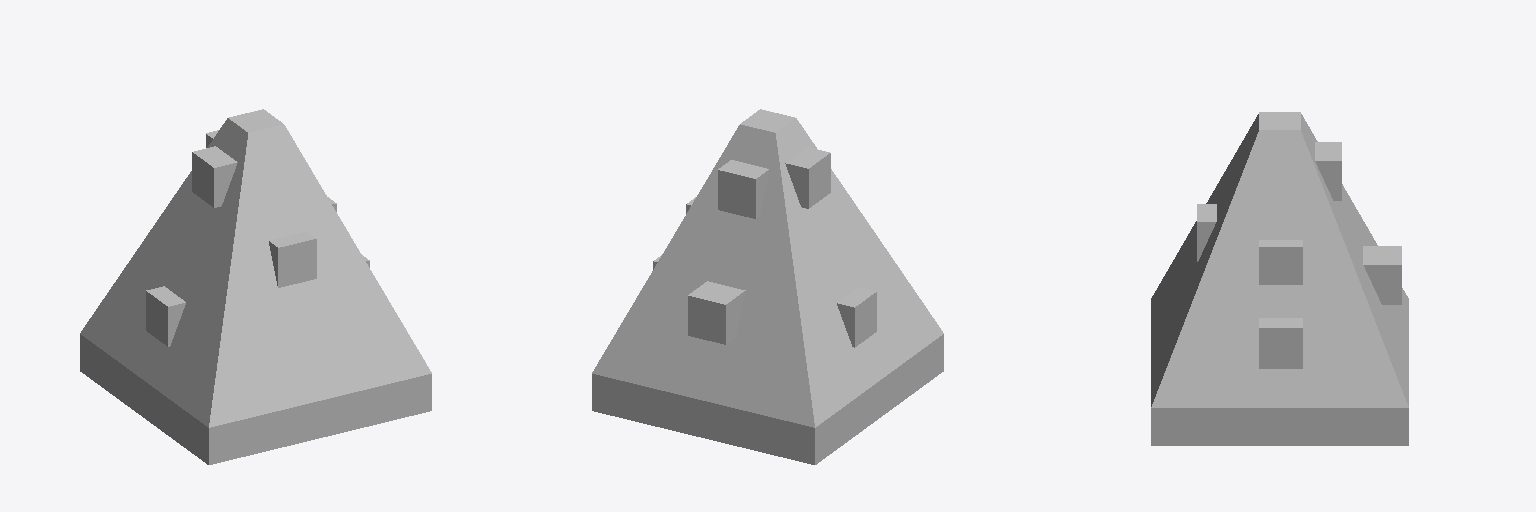
File: baseORES.obj
3 renders of one model, left to right at view 1: azimuth 30°, elevation 25°; view 2: azimuth 150°, elevation 25°; view 3: azimuth 270°, elevation 25°, orthographic.
Visible parts, largest first — view 1: bronze; view 2: bronze; view 3: bronze.
Part boxes in pixels (bbox=[...]): bronze: bbox=[80, 109, 431, 464]; bronze: bbox=[592, 109, 943, 464]; bronze: bbox=[1151, 112, 1408, 445].
Bounding box in the file's own units: 3.86 × 4.46 × 3.86.